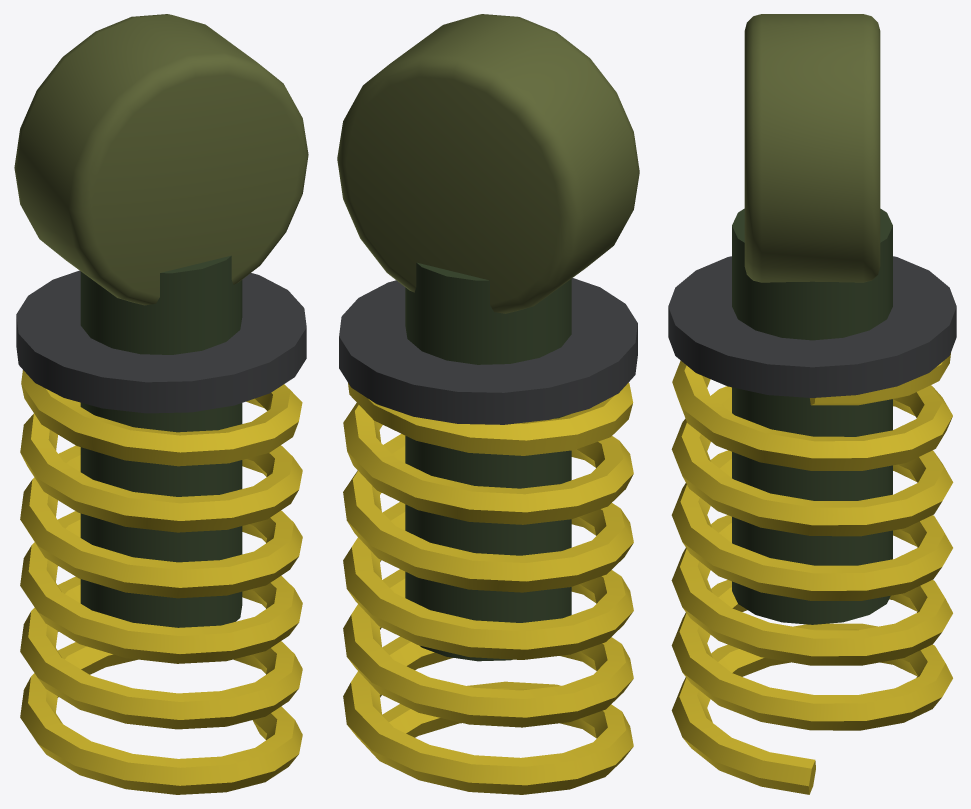
The model's file is wheel_leg_rl.glb.
3 views of the same model, side by side, from view 1: azimuth 30°, elevation 25°; view 2: azimuth 150°, elevation 25°; view 3: azimuth 270°, elevation 25° (orthographic). The views are drawn at different scales.
Parts seen in each view (by area): view 1: wheel_leg_rl; view 2: wheel_leg_rl; view 3: wheel_leg_rl.
Part boxes in pixels (left/top/right/bottom): wheel_leg_rl: left=14, top=14, right=308, bottom=794; wheel_leg_rl: left=337, top=14, right=639, bottom=794; wheel_leg_rl: left=668, top=14, right=956, bottom=794.
Bounding box in the file's own units: 0.068 × 0.1858 × 0.068.
